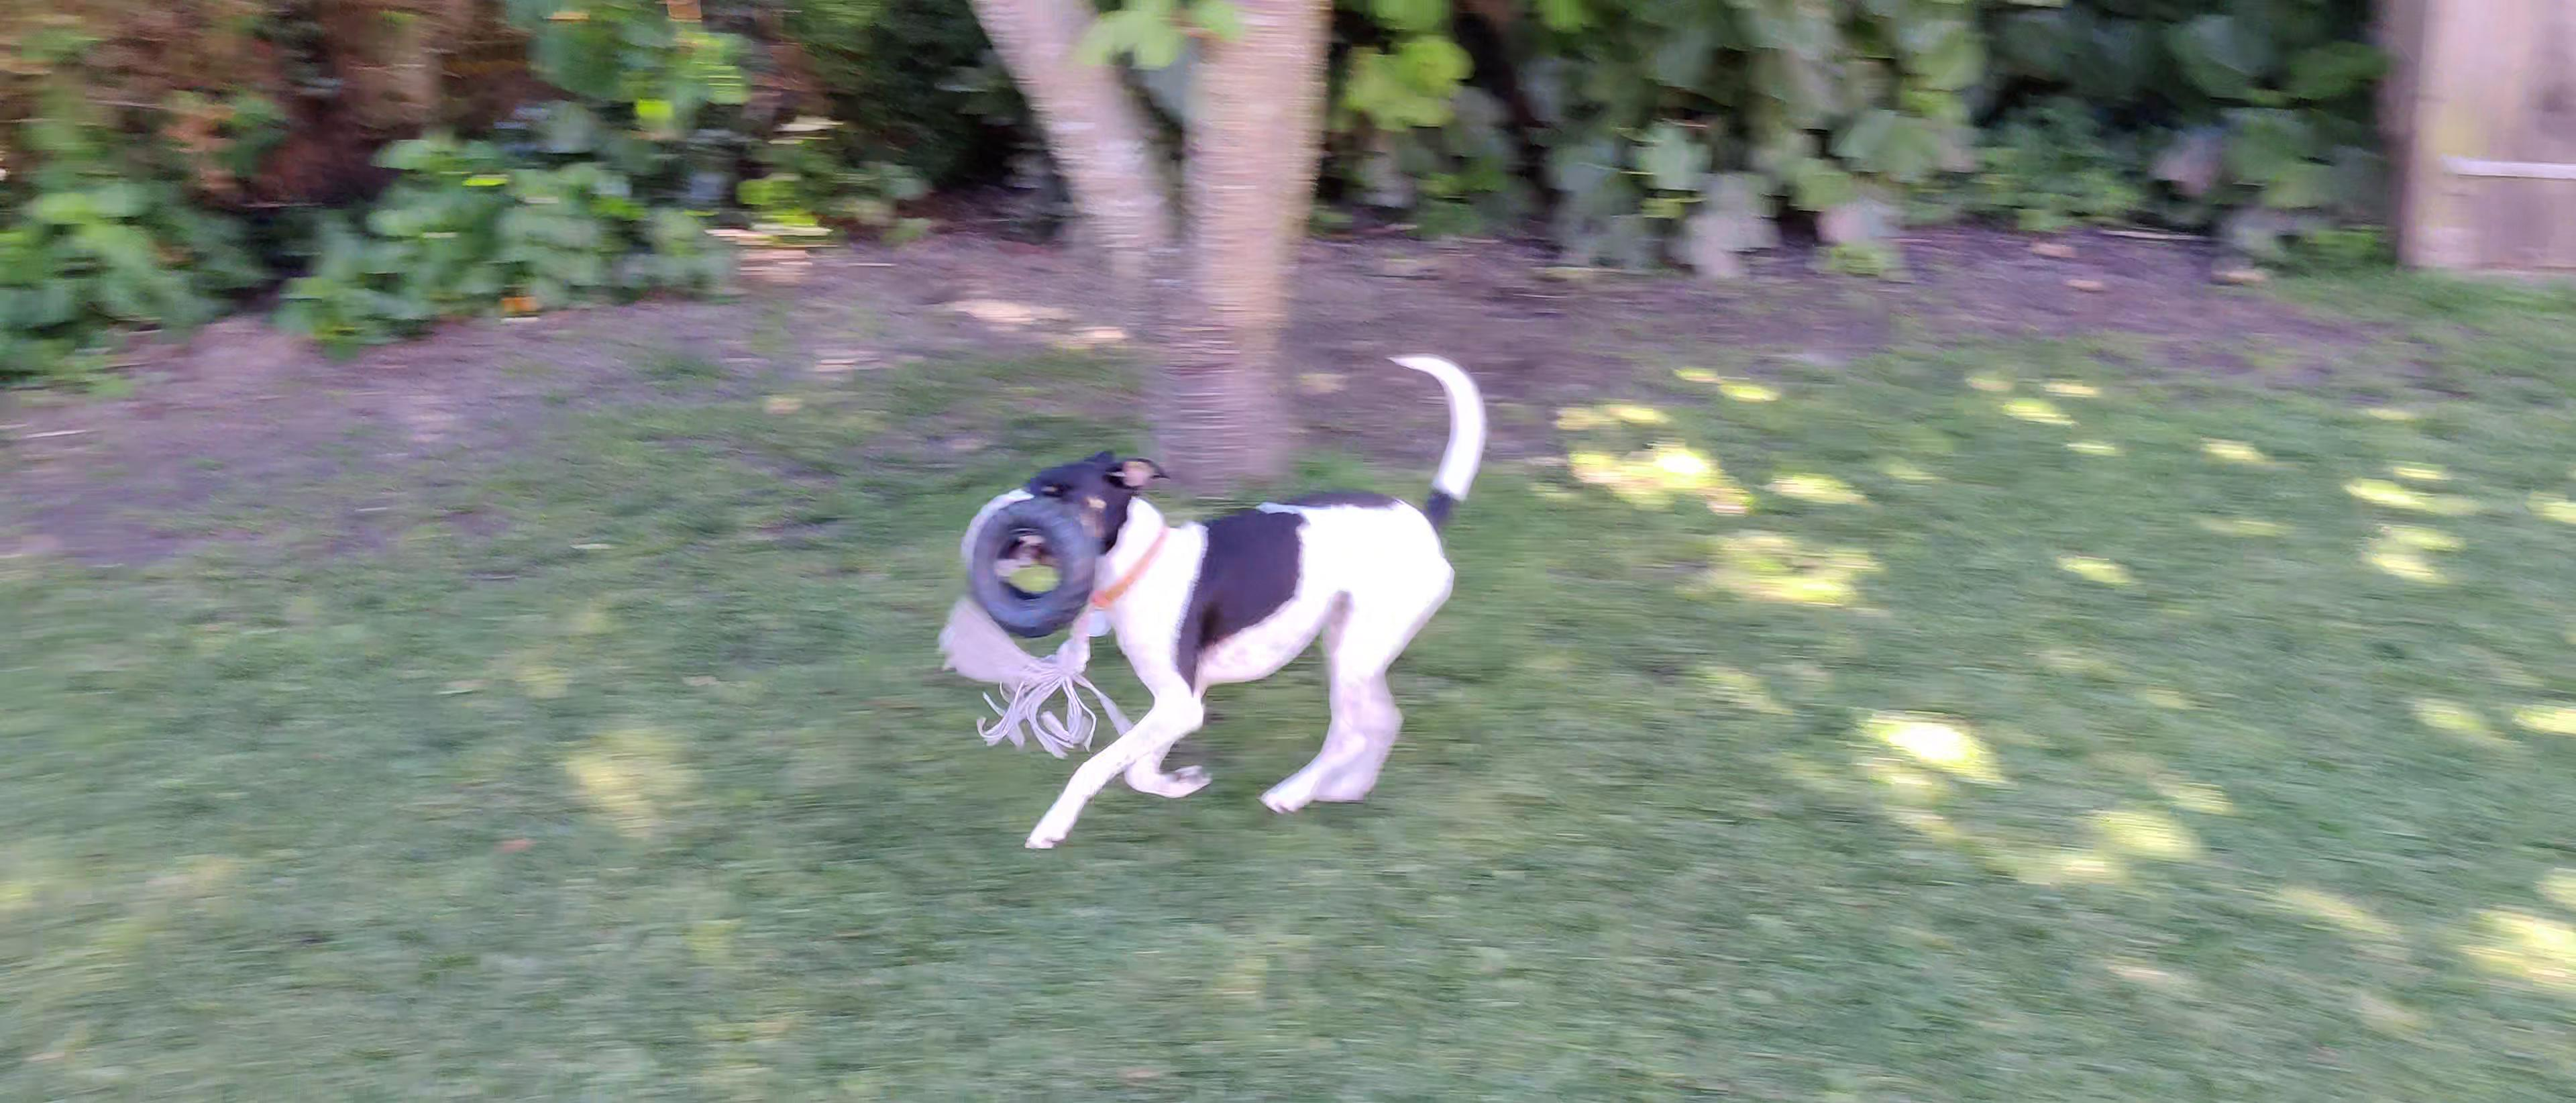Dog: (935, 348, 1493, 855)
